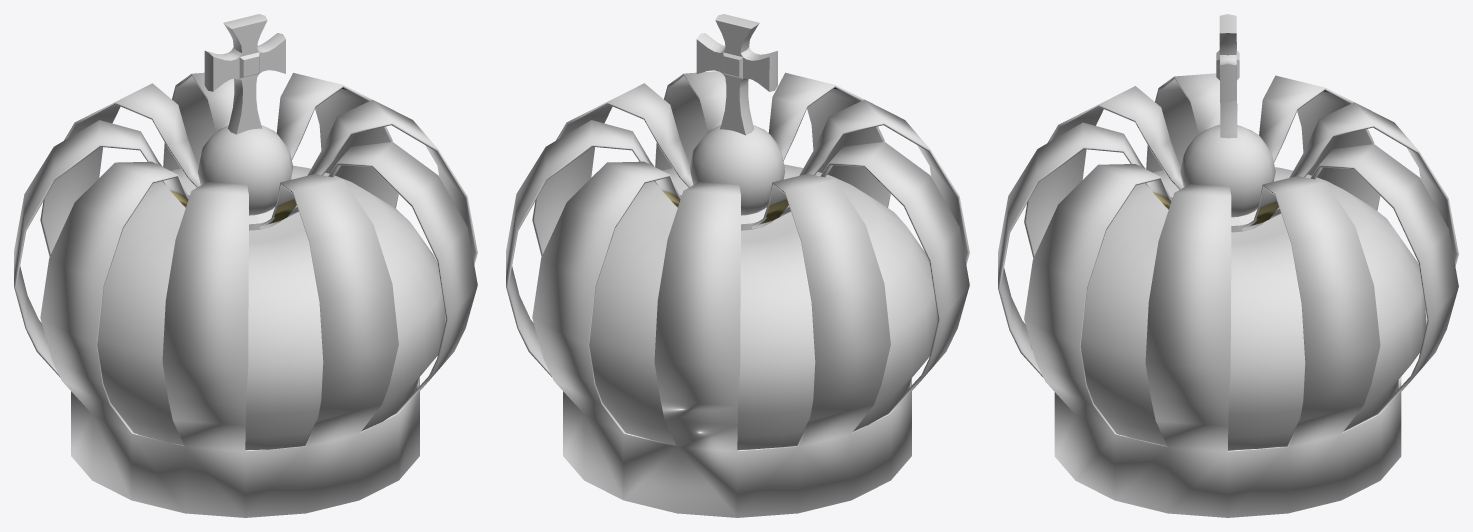
Rendered from Crown.FBX.
The picture shows the model from 3 angles, left to right: view 1: azimuth 30°, elevation 25°; view 2: azimuth 150°, elevation 25°; view 3: azimuth 270°, elevation 25°; orthographic projection.
Parts seen in each view (by area): view 1: Cylinder001; view 2: Cylinder001; view 3: Cylinder001.
Boxes of the visible parts, left/top/right/bottom form: Cylinder001: left=14, top=14, right=477, bottom=517; Cylinder001: left=506, top=14, right=969, bottom=517; Cylinder001: left=998, top=14, right=1458, bottom=517.
Size of the model in its own units: 3.46 by 3.42 by 3.4.
